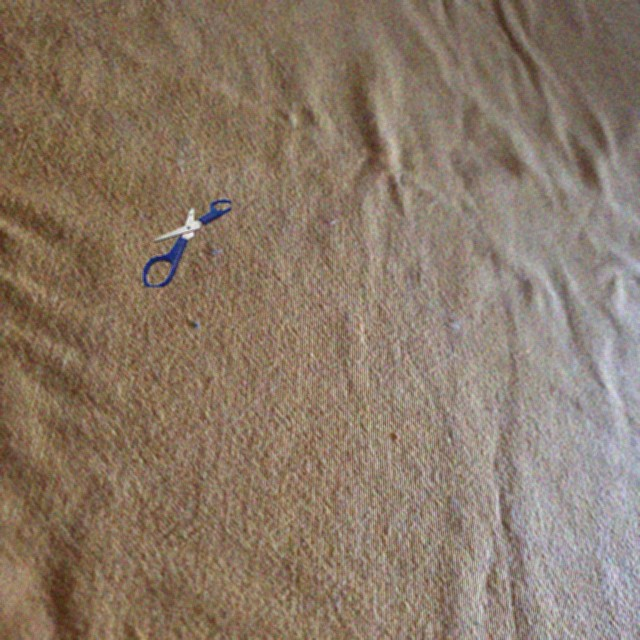scissors: (142, 199, 231, 287)
